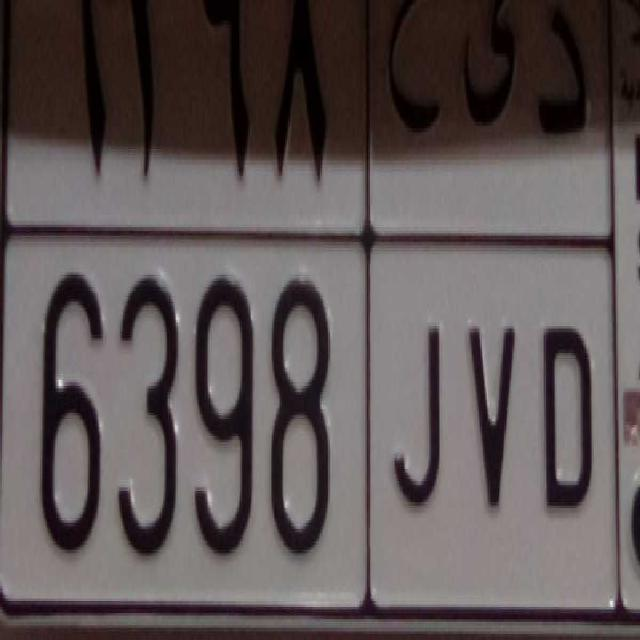license_plate: (19, 218, 608, 625)
